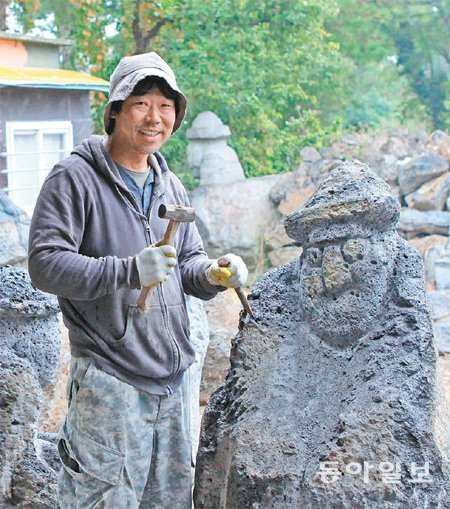Stone Statue: (184, 148, 450, 509)
